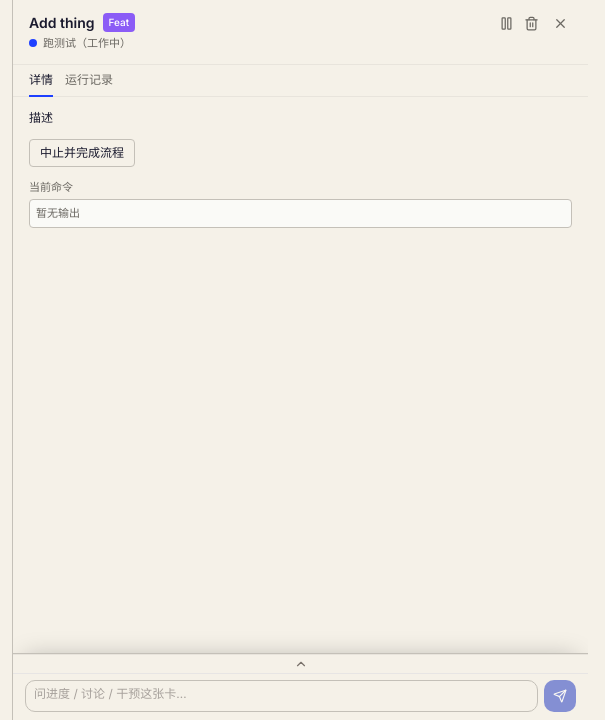
Test case: RequirementCardDetail · 「运行记录」页签 › 默认选中当前活跃运行：切到页签即看该运行的时间线
Click the tab "运行记录". click: (89, 80)
box: [65,64,113,96]
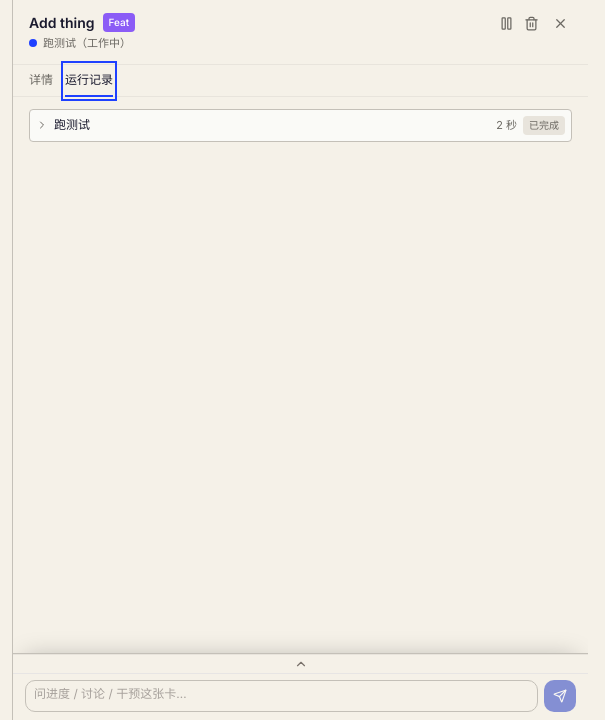
Result: the text "跑测试" is shown at [54,117,90,132]
Result: the text "描述" is gone
